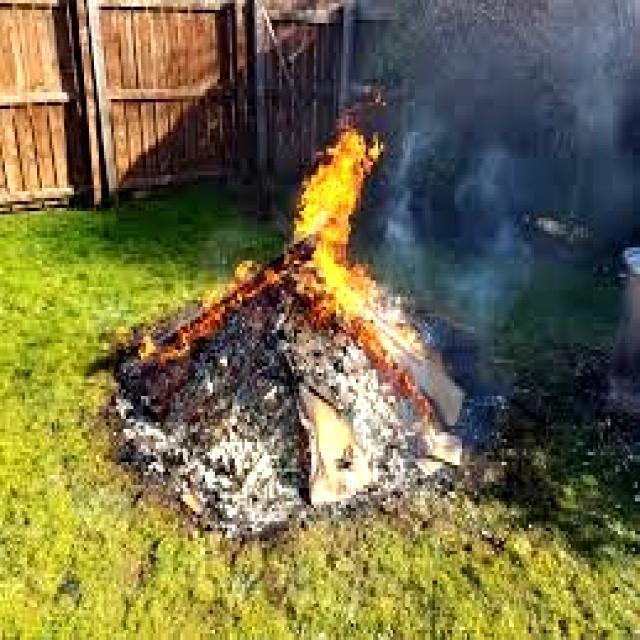Fire: (274, 119, 386, 334)
Smoke: (376, 0, 640, 313)
